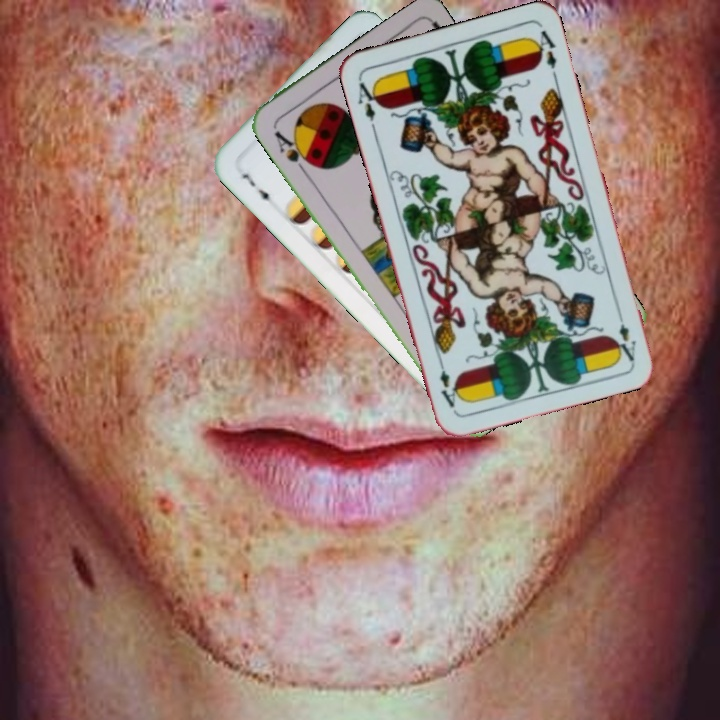E7: (236, 168, 275, 209)
EA: (612, 305, 639, 364), (354, 76, 384, 124)
SA: (270, 127, 316, 175)
